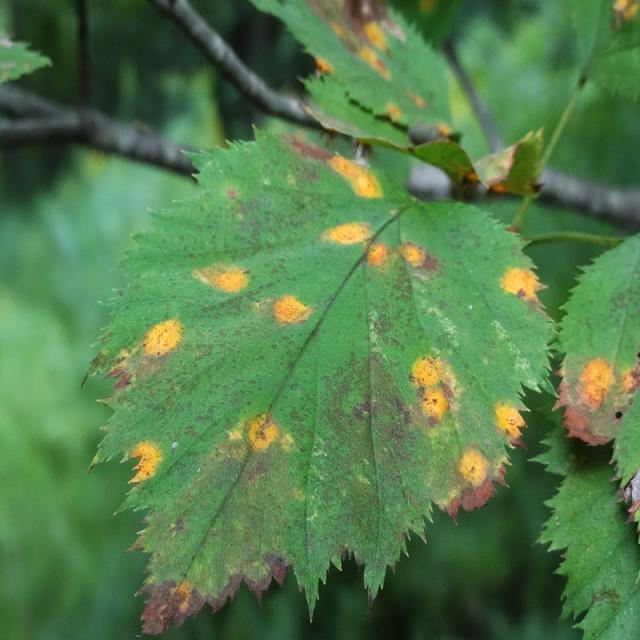Gymnosporangium_Rusts: (110, 92, 640, 564)
